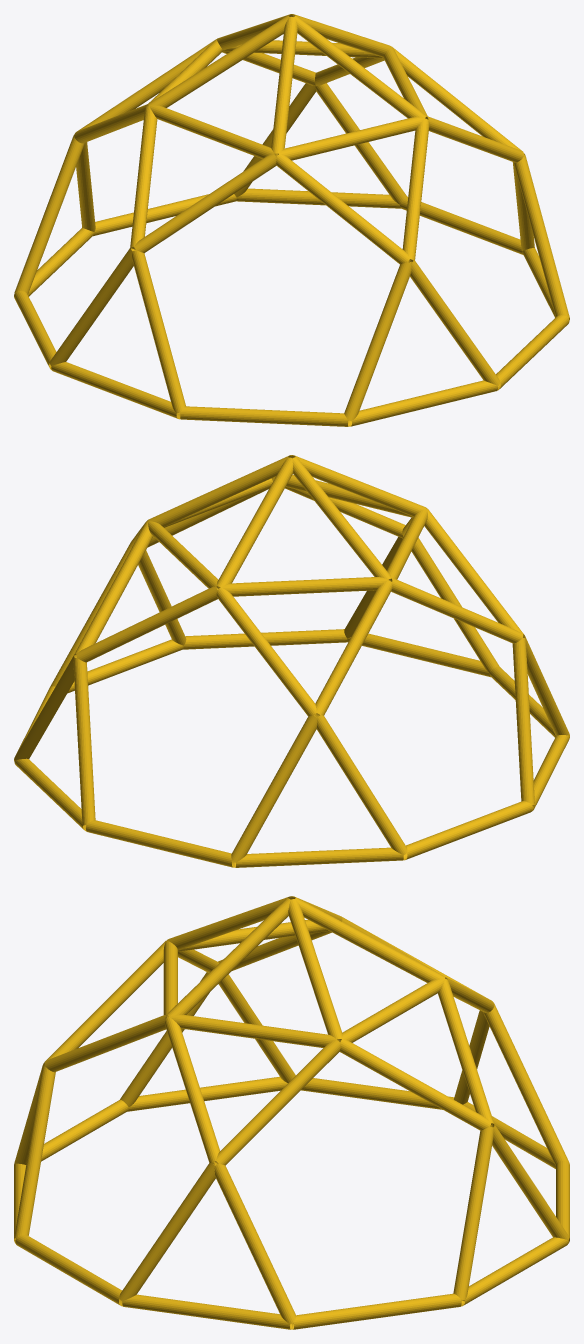
The model's file is trinexus2_1a.glb.
The picture shows the model from 3 angles, top to bottom: view 1: azimuth 30°, elevation 25°; view 2: azimuth 150°, elevation 25°; view 3: azimuth 270°, elevation 25°; orthographic projection. The views are drawn at different scales.
Parts seen in each view (by area): view 1: Mesh_30; view 2: Mesh_30; view 3: Mesh_30.
Boxes of the visible parts, <box> form: Mesh_30: <box>14,14,569,426</box>; Mesh_30: <box>14,455,569,867</box>; Mesh_30: <box>14,896,569,1329</box>.
Size of the model in its own units: 4.97 by 2.93 by 4.74.
